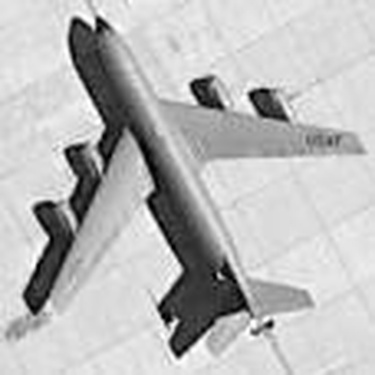airplane: (4, 6, 367, 358)
